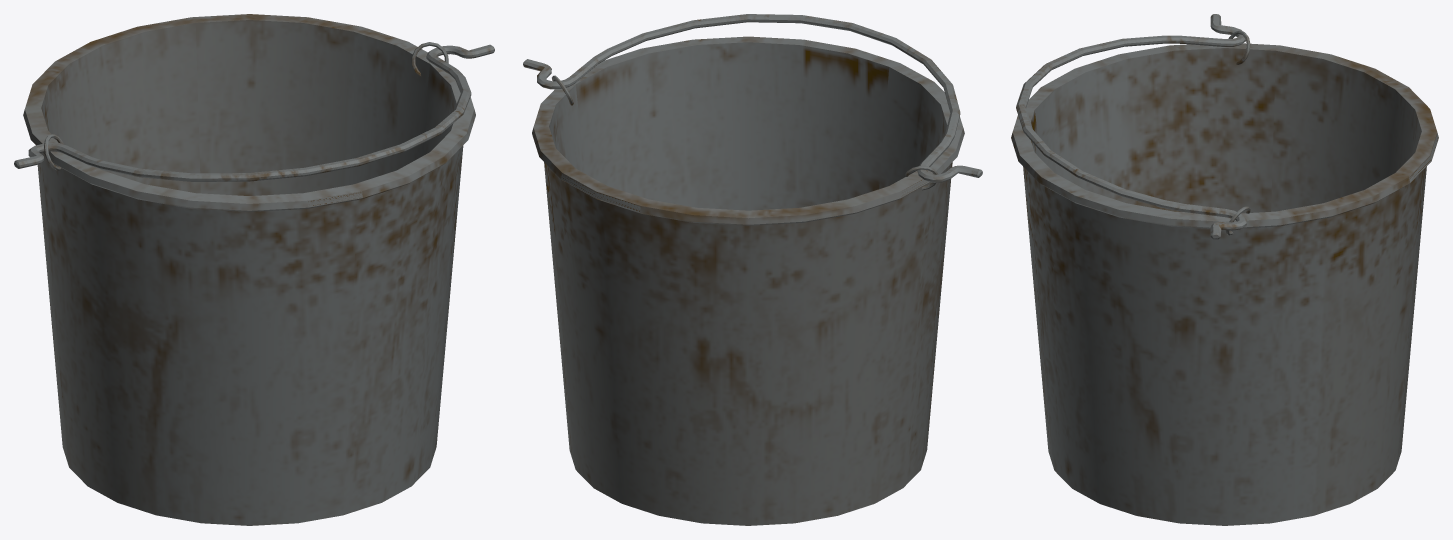
The model's file is bucket of shit.fbx.
3 renders of one model, left to right at view 1: azimuth 30°, elevation 25°; view 2: azimuth 150°, elevation 25°; view 3: azimuth 270°, elevation 25°, orthographic. The views are drawn at different scales.
Parts seen in each view (by area): view 1: Cylinder.002; view 2: Cylinder.002; view 3: Cylinder.002.
Part boxes in pixels (<box>): Cylinder.002: <box>14,14,494,525</box>; Cylinder.002: <box>523,14,982,525</box>; Cylinder.002: <box>1011,14,1438,525</box>.
Size of the model in its own units: 59.15 by 43.48 by 48.62.
